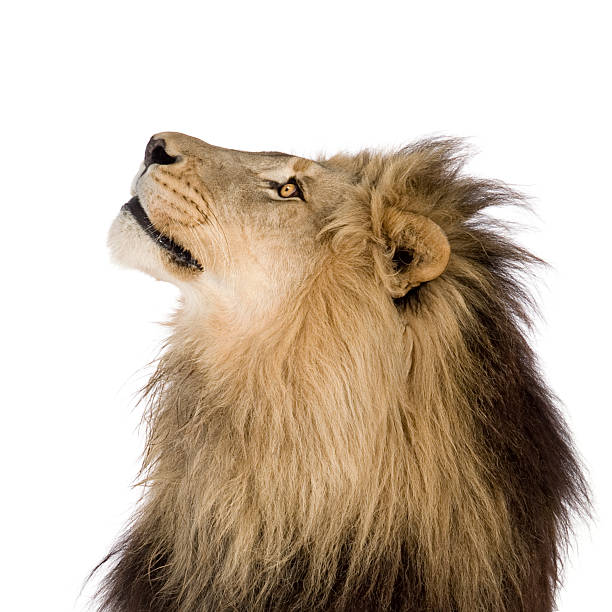lion: (61, 89, 612, 598)
